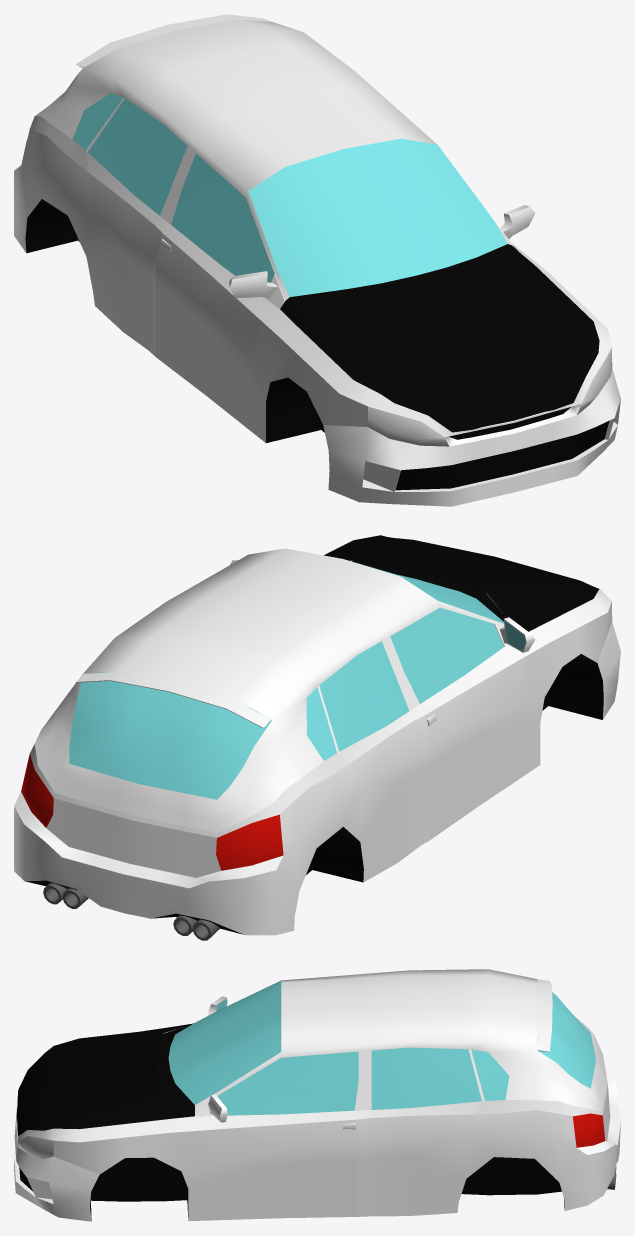
The picture shows the model from 3 angles, top to bottom: view 1: azimuth 30°, elevation 25°; view 2: azimuth 150°, elevation 25°; view 3: azimuth 270°, elevation 25°; orthographic projection. The views are drawn at different scales.
Parts seen in each view (by area): view 1: Body; view 2: Body; view 3: Body.
Part boxes in pixels (x1,y1,x2,y2): Body: (14, 14, 620, 506); Body: (14, 535, 620, 940); Body: (14, 969, 620, 1221).
Bounding box in the file's own units: 2 × 1.42 × 4.45.
